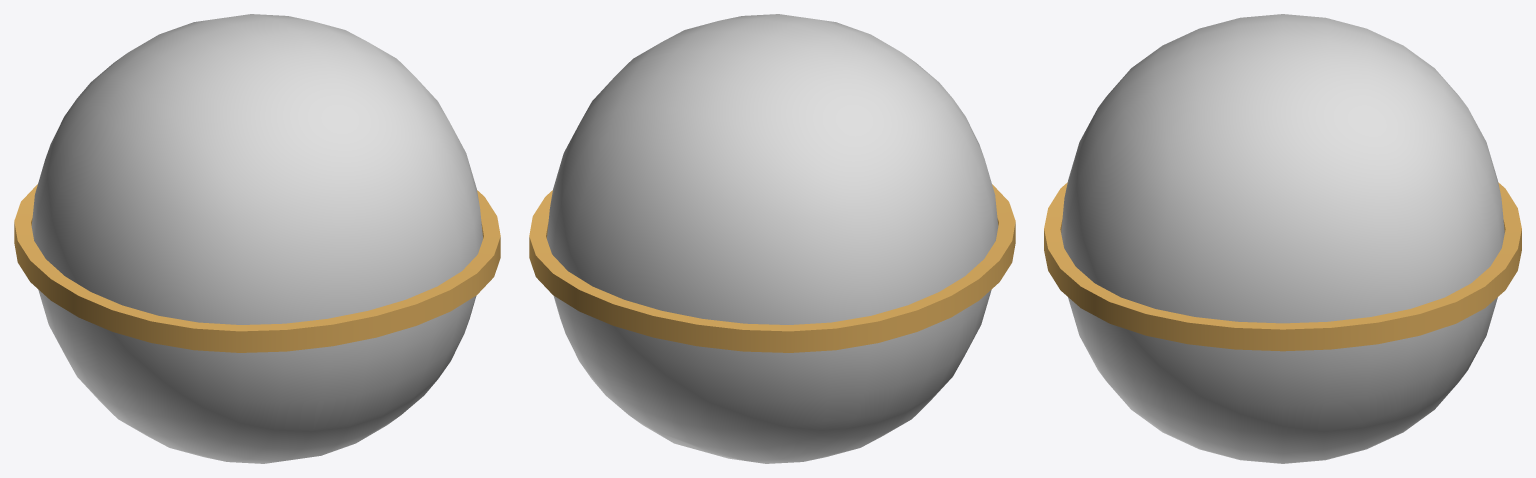
The model's file is m_Compass.fbx.
The picture shows the model from 3 angles, left to right: view 1: azimuth 30°, elevation 25°; view 2: azimuth 150°, elevation 25°; view 3: azimuth 270°, elevation 25°; orthographic projection.
Parts seen in each view (by area): view 1: Compass_Base; view 2: Compass_Base; view 3: Compass_Base.
Boxes of the visible parts, bbox=[...] form: Compass_Base: bbox=[14, 14, 500, 463]; Compass_Base: bbox=[529, 14, 1015, 463]; Compass_Base: bbox=[1044, 14, 1521, 463].
Bounding box in the file's own units: 29.6 × 27.54 × 29.6.
